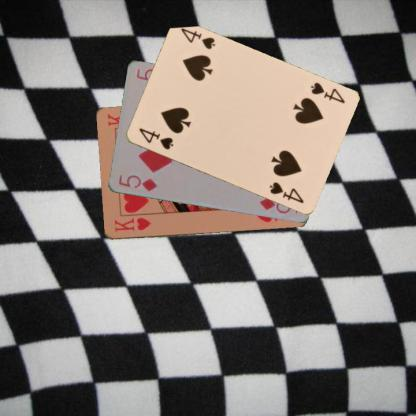4s: (136, 126, 174, 152), (307, 80, 346, 104)
5d: (116, 172, 158, 193)
Kh: (111, 215, 152, 233)
